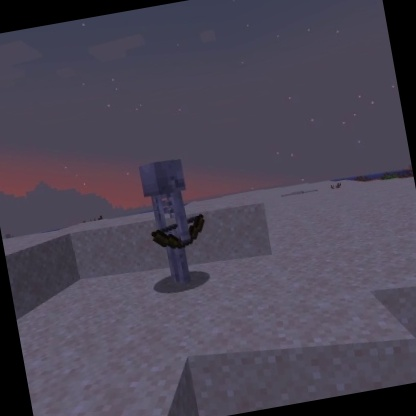skeleton: (134, 152, 219, 293)
